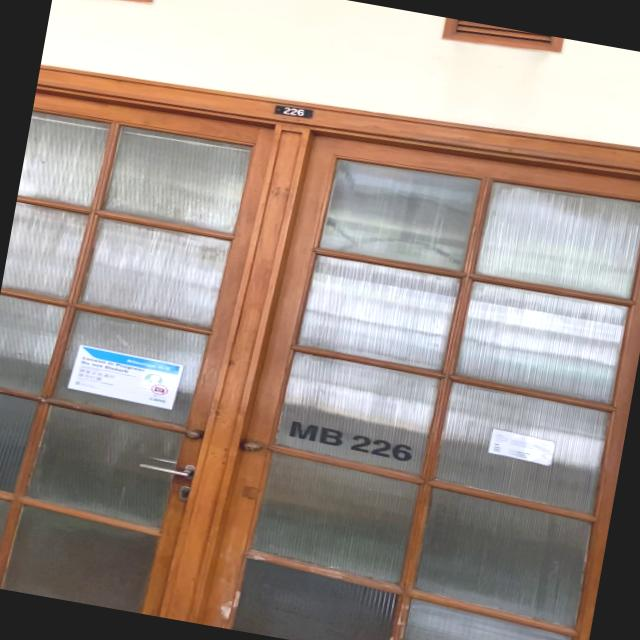room226: (274, 102, 314, 121)
room226Window: (283, 412, 415, 466)
